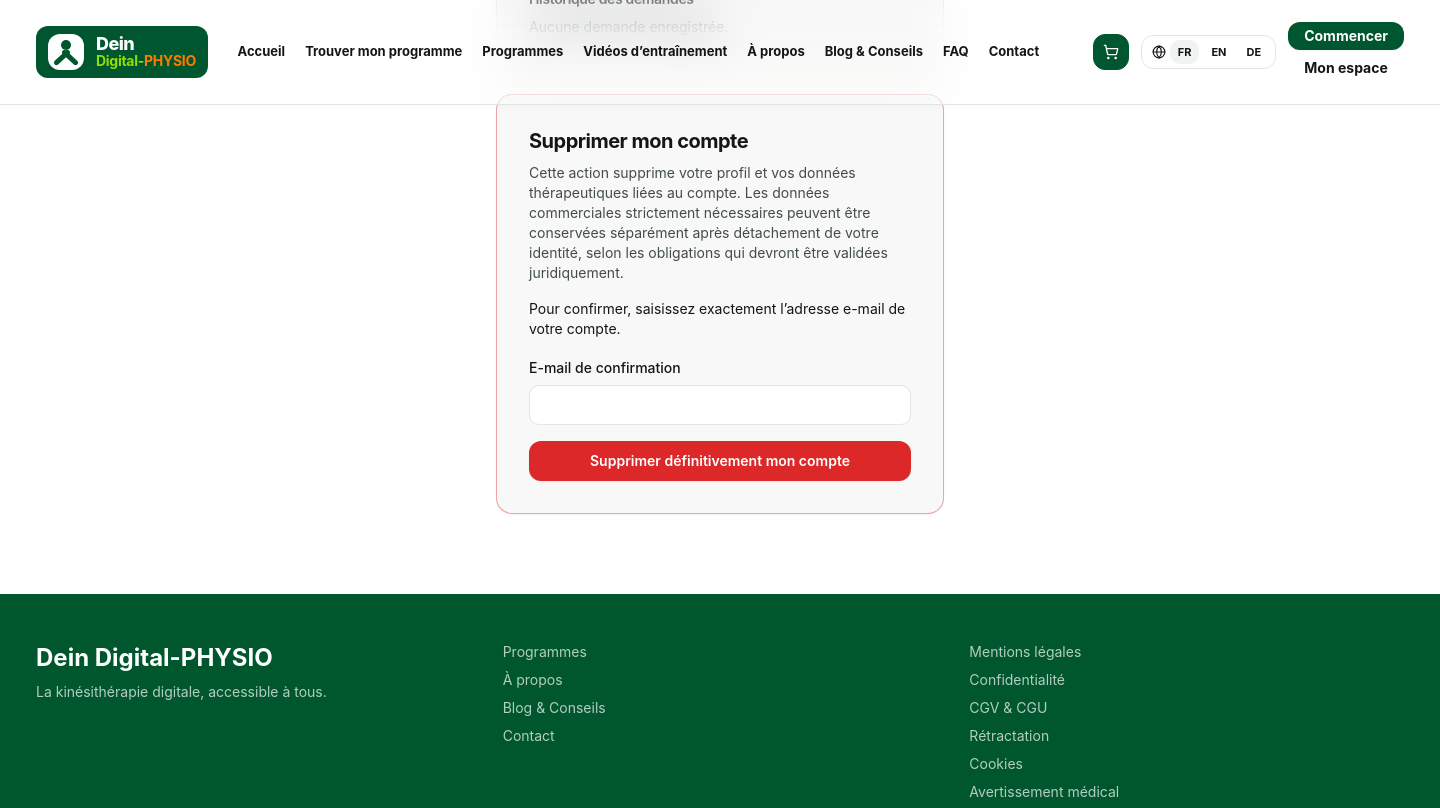
Test case: /account › does not start erasure when the confirmation email is wrong
(page scrolled)
In the field labelled "E-mail de confirmation": (720,405) x1=529 y1=385 x2=911 y2=425, type "wrong@example.test"
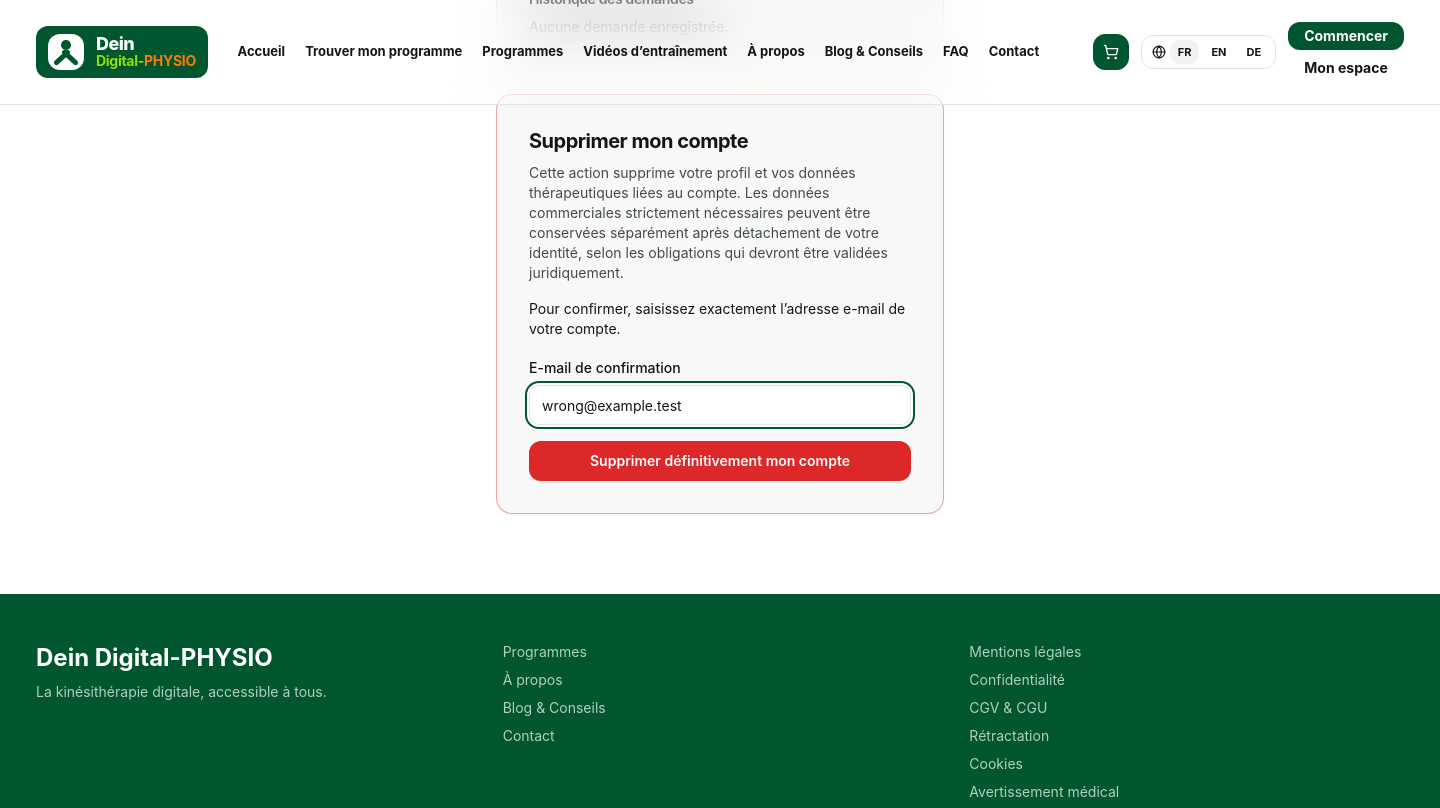
Click the button "Supprimer définitivement mon compte": (720,461) x1=529 y1=441 x2=911 y2=481
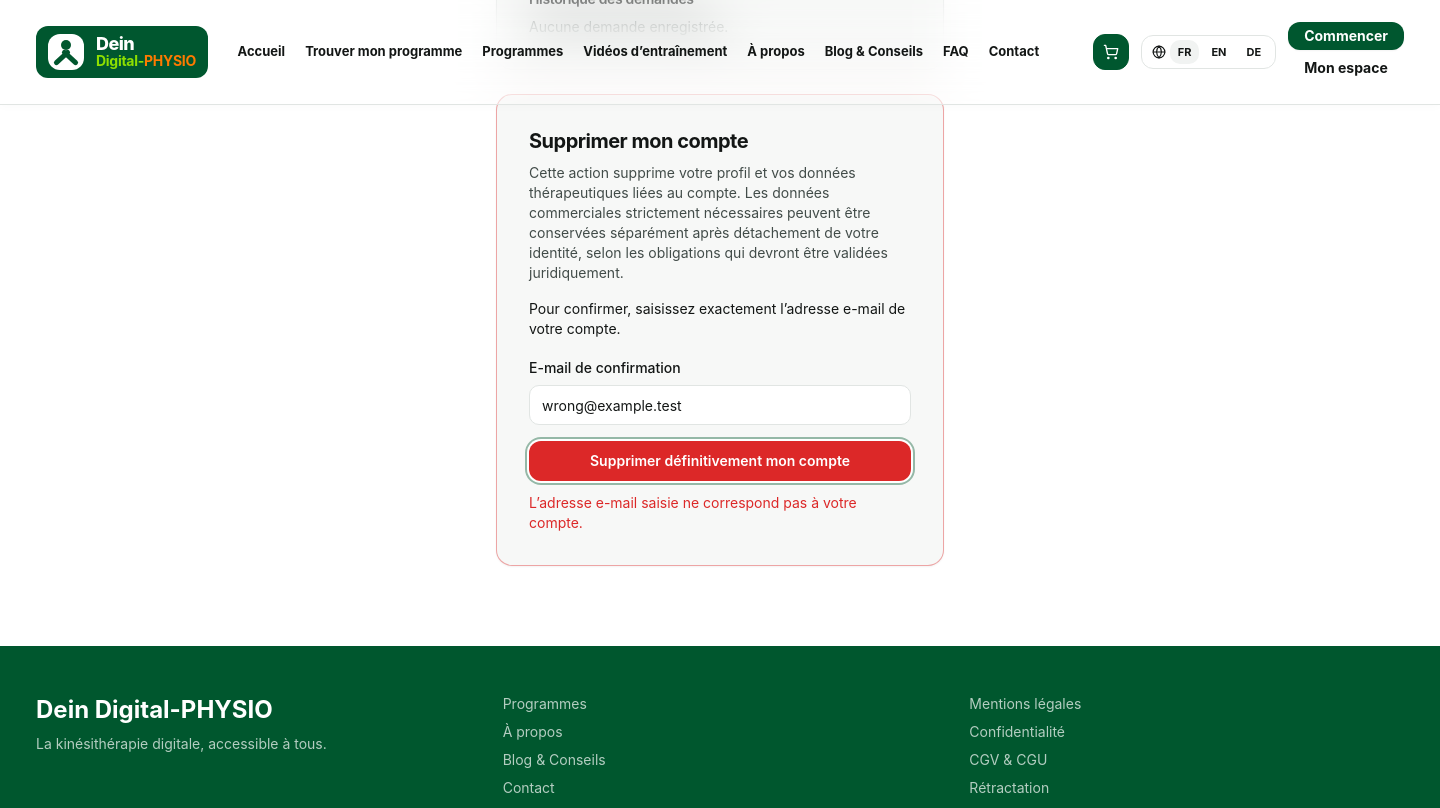
Expected: the message shows "ne correspond pas", x1=529 y1=494 x2=857 y2=531
